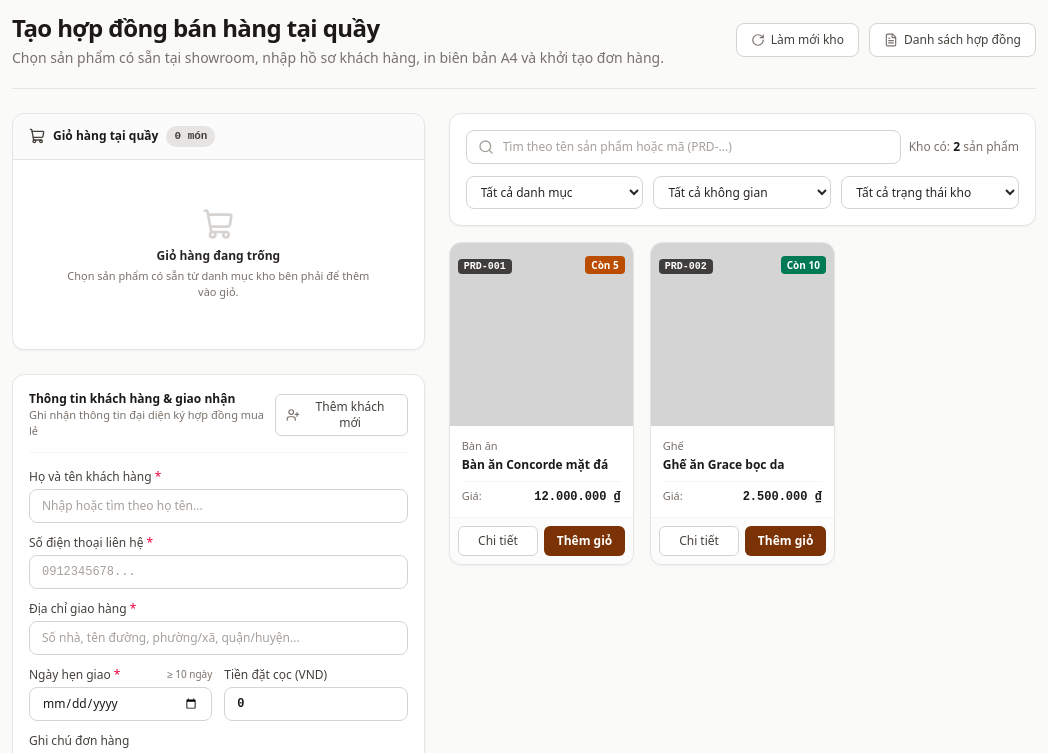
CreateOrderPage Component › adds product to cart when clicking Thêm giỏ
The image size is (1048, 753).
Check: the heading "Bàn ăn Concorde mặt đá" is shown, box x1=462 y1=457 x2=621 y2=473
Click the button "Thêm giỏ" below "12.000.000 ₫" at (584, 541), box x1=544 y1=526 x2=625 y2=556
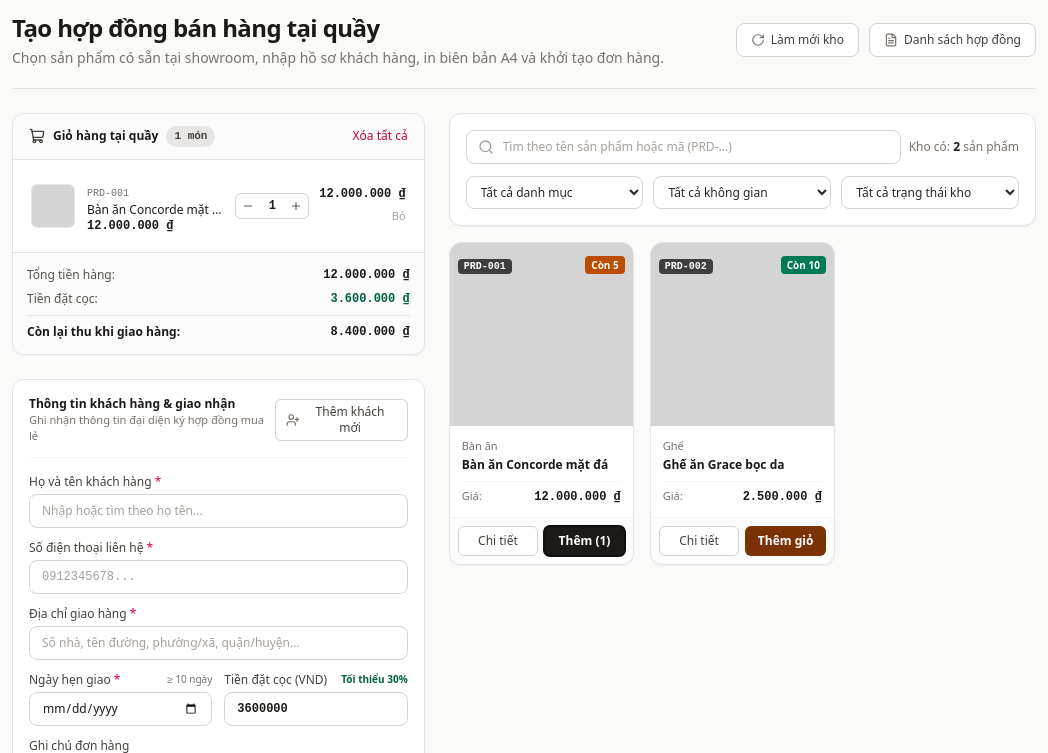
Check: the text "1 món" is shown, box x1=166 y1=126 x2=215 y2=146
Check: the 2nd text "12.000.000 ₫" is shown, box x1=87 y1=218 x2=173 y2=232
